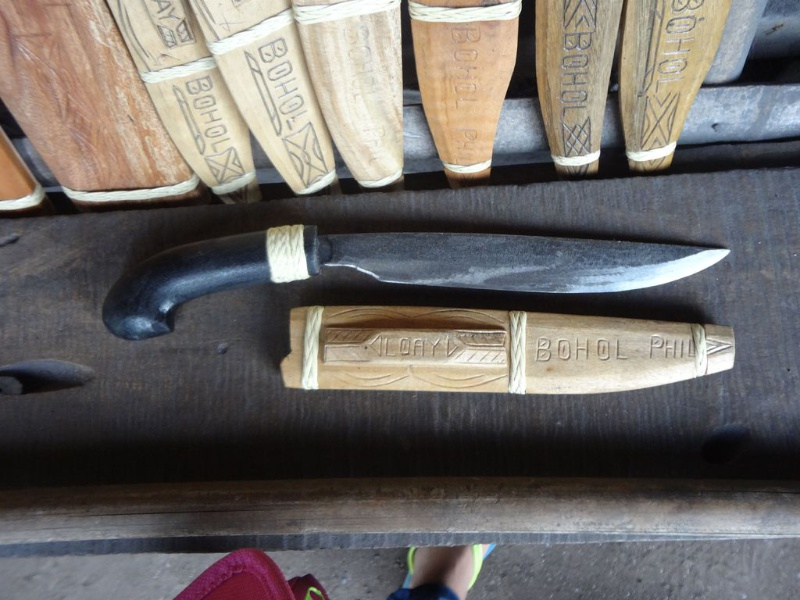knife: (90, 221, 743, 344)
